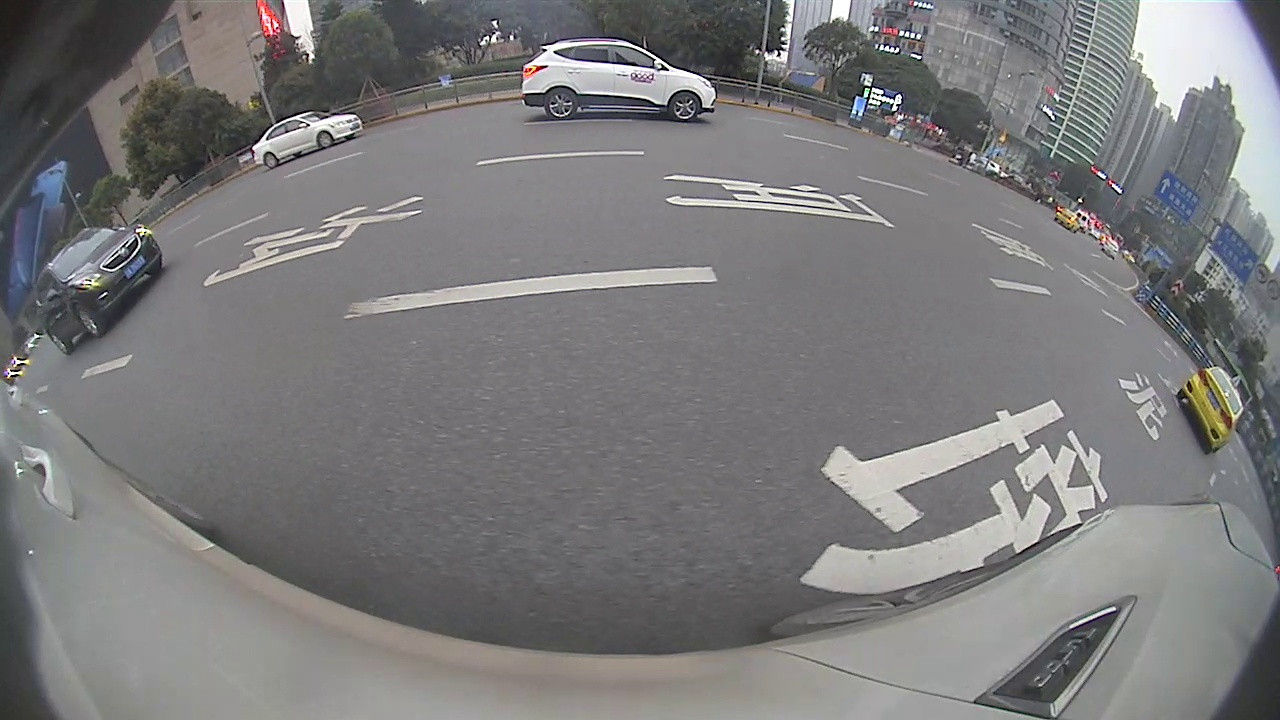car: (518, 36, 718, 125), (32, 224, 163, 356), (251, 108, 364, 171), (1175, 365, 1248, 457)
front: (668, 89, 700, 124), (69, 304, 102, 337), (316, 130, 332, 150)
rear: (541, 87, 579, 120), (46, 325, 72, 356), (263, 153, 278, 168)
